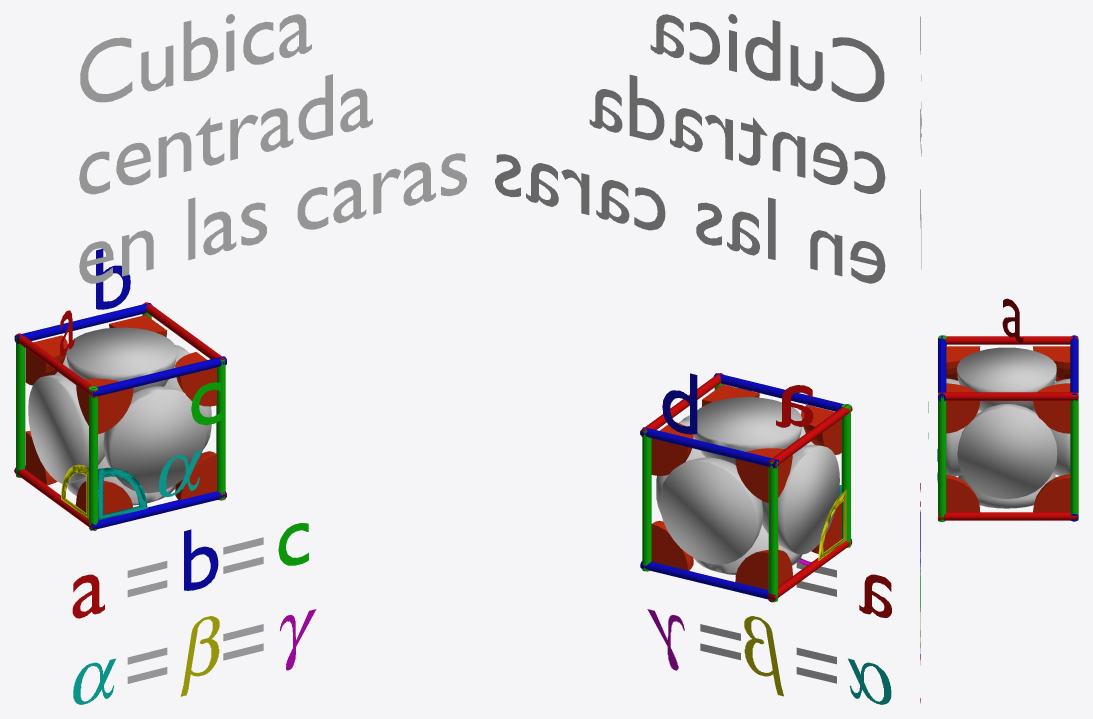
File: cubica centrada en las caras.obj
3 renders of one model, left to right at view 1: azimuth 30°, elevation 25°; view 2: azimuth 150°, elevation 25°; view 3: azimuth 270°, elevation 25°, orthographic. The views are drawn at different scales.
Parts seen in each view (by area): view 1: Text.186_Text.001, Sphere.416_Sphere.001_Sphere.416_Sphere.002, Sphere.414_Sphere.001_Sphere.414_Sphere.002, Sphere.418_Sphere.001_Sphere.418_Sphere.002, Sphere.403_Sphere.001_Sphere.403_Sphere.002, Cylinder.545_Cylinder.001, Cylinder.552_Cylinder.001, Sphere.405_Sphere.001_Sphere.405_Sphere.002, Cylinder.551_Cylinder.001, Cylinder.544_Cylinder.001, Cylinder.554_Cylinder.001, Cylinder.546_Cylinder.001 (+15 smaller); view 2: Text.186_Text.001, Sphere.415_Sphere.001_Sphere.415_Sphere.002, Sphere.414_Sphere.001_Sphere.414_Sphere.002, Sphere.418_Sphere.001_Sphere.418_Sphere.002, Sphere.407_Sphere.001_Sphere.407_Sphere.002, Sphere.406_Sphere.001_Sphere.406_Sphere.002, Cylinder.549_Cylinder.001, Cylinder.552_Cylinder.001, Cylinder.551_Cylinder.001, Sphere.409_Sphere.001_Sphere.409_Sphere.002, Sphere.408_Sphere.001_Sphere.408_Sphere.002, Cylinder.550_Cylinder.001 (+15 smaller); view 3: Sphere.413_Sphere.001_Sphere.413_Sphere.002, Sphere.418_Sphere.001_Sphere.418_Sphere.002, Sphere.409_Sphere.001_Sphere.409_Sphere.002, Cylinder.548_Cylinder.001, Cylinder.547_Cylinder.001, Sphere.408_Sphere.001_Sphere.408_Sphere.002, Cylinder.555_Cylinder.001, Cylinder.546_Cylinder.001, Sphere.405_Sphere.001_Sphere.405_Sphere.002, Cylinder.549_Cylinder.001, Sphere.404_Sphere.001_Sphere.404_Sphere.002, Sphere.417_Sphere.001_Sphere.417_Sphere.002 (+7 smaller).
Part boxes in pixels (x1,y1,x2,y2): Text.186_Text.001: (79,14,466,283); Sphere.416_Sphere.001_Sphere.416_Sphere.002: (103,386,206,493); Sphere.414_Sphere.001_Sphere.414_Sphere.002: (28,375,104,484); Sphere.418_Sphere.001_Sphere.418_Sphere.002: (66,327,176,393); Sphere.403_Sphere.001_Sphere.403_Sphere.002: (76,378,133,434); Cylinder.545_Cylinder.001: (91,356,226,397); Cylinder.552_Cylinder.001: (16,336,25,477); Sphere.405_Sphere.001_Sphere.405_Sphere.002: (175,352,216,406); Cylinder.551_Cylinder.001: (14,303,151,344); Cylinder.544_Cylinder.001: (90,491,226,530); Cylinder.554_Cylinder.001: (89,386,97,530); Cylinder.546_Cylinder.001: (216,359,225,500); Text.186_Text.001: (495,14,885,283); Sphere.415_Sphere.001_Sphere.415_Sphere.002: (660,457,763,564); Sphere.414_Sphere.001_Sphere.414_Sphere.002: (762,445,839,554); Sphere.418_Sphere.001_Sphere.418_Sphere.002: (693,397,802,465); Sphere.407_Sphere.001_Sphere.407_Sphere.002: (735,448,792,502); Sphere.406_Sphere.001_Sphere.406_Sphere.002: (735,550,792,590); Cylinder.549_Cylinder.001: (642,430,651,571); Cylinder.552_Cylinder.001: (768,461,777,602); Cylinder.551_Cylinder.001: (641,427,778,468); Sphere.409_Sphere.001_Sphere.409_Sphere.002: (651,422,693,475); Sphere.408_Sphere.001_Sphere.408_Sphere.002: (651,520,693,570); Cylinder.550_Cylinder.001: (640,561,778,600); Sphere.413_Sphere.001_Sphere.413_Sphere.002: (957,404,1057,499); Sphere.418_Sphere.001_Sphere.418_Sphere.002: (957,347,1056,411); Sphere.409_Sphere.001_Sphere.409_Sphere.002: (1033,383,1070,433); Cylinder.548_Cylinder.001: (938,392,1077,400); Cylinder.547_Cylinder.001: (938,512,1077,520); Sphere.408_Sphere.001_Sphere.408_Sphere.002: (1033,474,1070,512); Cylinder.555_Cylinder.001: (938,336,1077,344); Cylinder.546_Cylinder.001: (938,393,946,521); Sphere.405_Sphere.001_Sphere.405_Sphere.002: (946,383,979,433); Cylinder.549_Cylinder.001: (1070,393,1078,521); Sphere.404_Sphere.001_Sphere.404_Sphere.002: (946,474,979,512); Sphere.417_Sphere.001_Sphere.417_Sphere.002: (958,473,1055,508).
Bounding box in the file's own units: 1.58 × 2.58 × 0.608.
